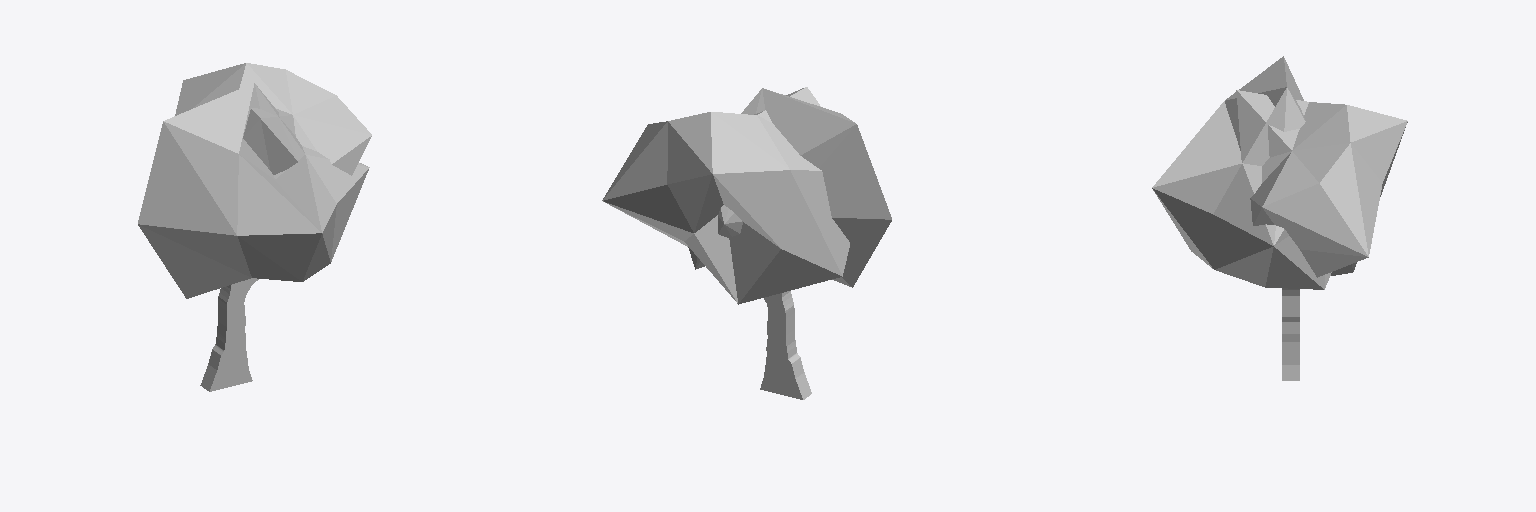
Rendered from boy.obj.
3 renders of one model, left to right at view 1: azimuth 30°, elevation 25°; view 2: azimuth 150°, elevation 25°; view 3: azimuth 270°, elevation 25°, orthographic.
Size of the model in its own units: 1756 by 2348 by 1603.